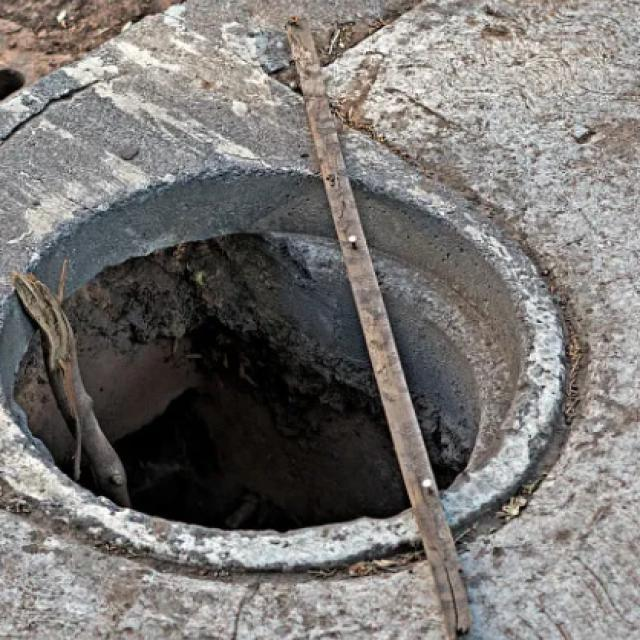manhole: (0, 15, 418, 567), (340, 128, 564, 526)
